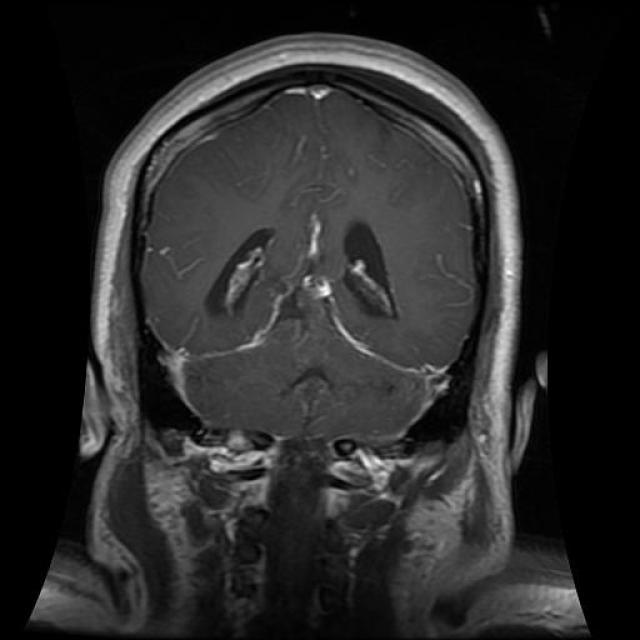glioma: (206, 221, 402, 331)
